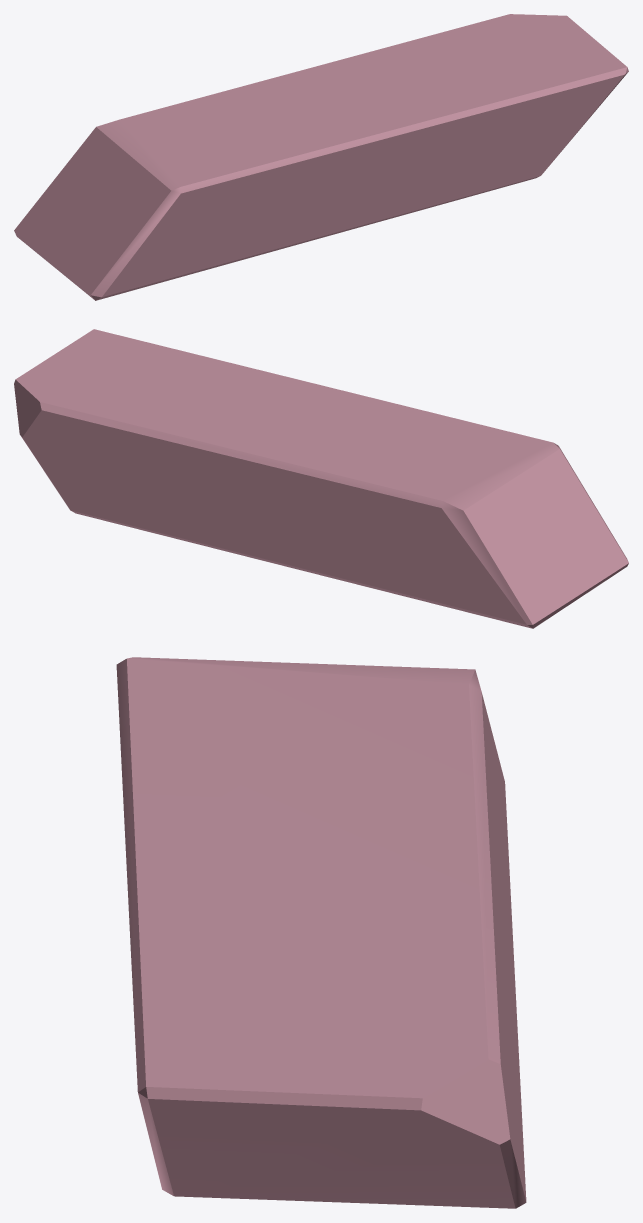
File: eraser.fbx
3 views of the same model, one above another, from view 1: azimuth 30°, elevation 25°; view 2: azimuth 150°, elevation 25°; view 3: azimuth 270°, elevation 25° (orthographic). The views are drawn at different scales.
Visible parts, largest first — view 1: pCube1; view 2: pCube1; view 3: pCube1.
Boxes of the visible parts, x1,y1,x2,y2 form: pCube1: (14,14,628,300); pCube1: (14,329,628,628); pCube1: (116,657,526,1208).
Bounding box in the file's own units: 0.13 × 0.0242 × 0.0424.
